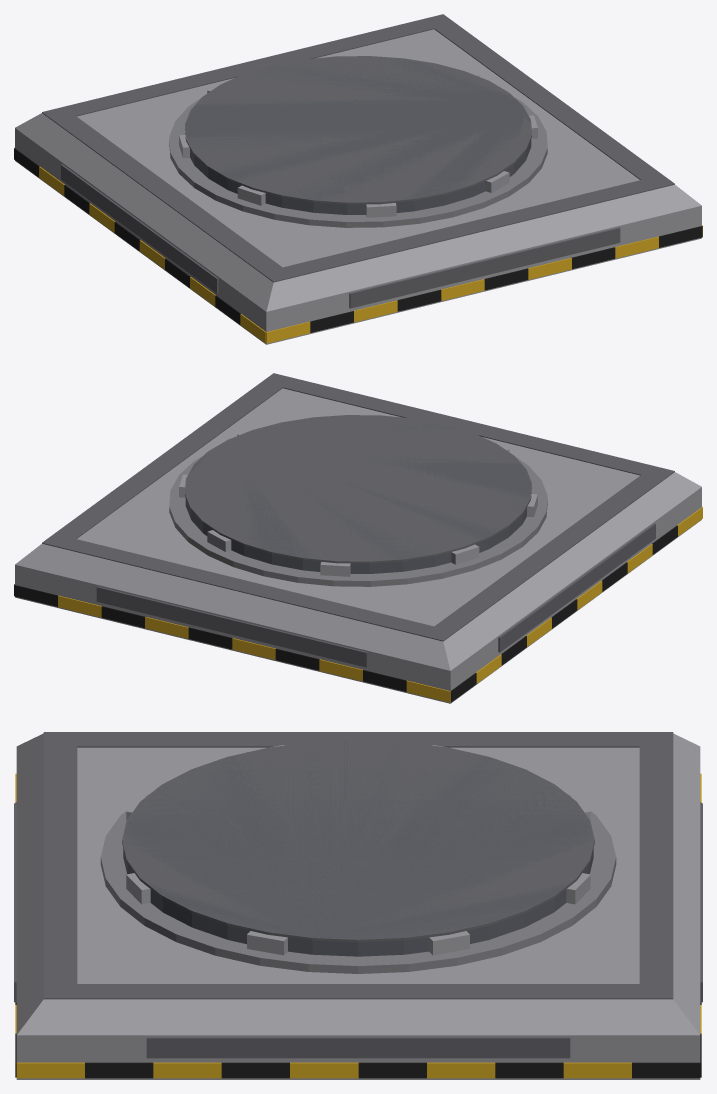
Rendered from vge_gun_pedestal_9x9.obj.
3 renders of one model, top to bottom at view 1: azimuth 30°, elevation 25°; view 2: azimuth 150°, elevation 25°; view 3: azimuth 270°, elevation 25°, orthographic. The views are drawn at different scales.
Parts seen in each view (by area): view 1: vge_gun_pedestal_9x9_1, vge_gun_pedestal_9x9_51, vge_gun_pedestal_9x9_52, vge_gun_pedestal_9x9_0, vge_gun_pedestal_9x9_50, vge_gun_pedestal_9x9_46, vge_gun_pedestal_9x9_47, vge_gun_pedestal_9x9_48, vge_gun_pedestal_9x9_49, vge_gun_pedestal_9x9_5, vge_gun_pedestal_9x9_3, vge_gun_pedestal_9x9_19 (+9 smaller); view 2: vge_gun_pedestal_9x9_1, vge_gun_pedestal_9x9_52, vge_gun_pedestal_9x9_51, vge_gun_pedestal_9x9_0, vge_gun_pedestal_9x9_50, vge_gun_pedestal_9x9_47, vge_gun_pedestal_9x9_46, vge_gun_pedestal_9x9_48, vge_gun_pedestal_9x9_49, vge_gun_pedestal_9x9_4, vge_gun_pedestal_9x9_3, vge_gun_pedestal_9x9_18 (+9 smaller); view 3: vge_gun_pedestal_9x9_1, vge_gun_pedestal_9x9_51, vge_gun_pedestal_9x9_52, vge_gun_pedestal_9x9_50, vge_gun_pedestal_9x9_0, vge_gun_pedestal_9x9_46, vge_gun_pedestal_9x9_47, vge_gun_pedestal_9x9_2, vge_gun_pedestal_9x9_49, vge_gun_pedestal_9x9_48, vge_gun_pedestal_9x9_16, vge_gun_pedestal_9x9_24 (+12 smaller).
Boxes of the visible parts, box(x1,y1,x2,y2) form: vge_gun_pedestal_9x9_1: box(15, 29, 701, 311); vge_gun_pedestal_9x9_51: box(185, 56, 531, 214); vge_gun_pedestal_9x9_52: box(185, 56, 531, 204); vge_gun_pedestal_9x9_0: box(15, 128, 701, 344); vge_gun_pedestal_9x9_50: box(169, 97, 547, 227); vge_gun_pedestal_9x9_46: box(261, 174, 674, 282); vge_gun_pedestal_9x9_47: box(42, 14, 455, 121); vge_gun_pedestal_9x9_48: box(54, 116, 282, 272); vge_gun_pedestal_9x9_49: box(434, 23, 662, 179); vge_gun_pedestal_9x9_5: box(349, 227, 620, 308); vge_gun_pedestal_9x9_3: box(61, 164, 218, 293); vge_gun_pedestal_9x9_19: box(397, 289, 441, 311); vge_gun_pedestal_9x9_1: box(15, 388, 701, 670); vge_gun_pedestal_9x9_52: box(185, 415, 531, 563); vge_gun_pedestal_9x9_51: box(185, 416, 531, 573); vge_gun_pedestal_9x9_0: box(15, 487, 701, 703); vge_gun_pedestal_9x9_50: box(169, 456, 547, 586); vge_gun_pedestal_9x9_47: box(42, 533, 455, 641); vge_gun_pedestal_9x9_46: box(261, 373, 674, 480); vge_gun_pedestal_9x9_48: box(434, 475, 662, 631); vge_gun_pedestal_9x9_49: box(54, 382, 282, 538); vge_gun_pedestal_9x9_4: box(96, 586, 367, 667); vge_gun_pedestal_9x9_3: box(498, 523, 655, 652); vge_gun_pedestal_9x9_18: box(275, 648, 319, 670); vge_gun_pedestal_9x9_1: box(16, 733, 700, 1035); vge_gun_pedestal_9x9_51: box(123, 741, 593, 956); vge_gun_pedestal_9x9_52: box(122, 740, 594, 942); vge_gun_pedestal_9x9_50: box(100, 794, 616, 973); vge_gun_pedestal_9x9_0: box(16, 1035, 700, 1079); vge_gun_pedestal_9x9_46: box(43, 732, 77, 999); vge_gun_pedestal_9x9_47: box(639, 732, 673, 999); vge_gun_pedestal_9x9_2: box(146, 1037, 570, 1058); vge_gun_pedestal_9x9_49: box(77, 984, 639, 999); vge_gun_pedestal_9x9_48: box(77, 732, 639, 747); vge_gun_pedestal_9x9_16: box(153, 1062, 221, 1078); vge_gun_pedestal_9x9_24: box(290, 1062, 358, 1078).
Bounding box in the file's own units: 6.15 × 0.94 × 6.15.
